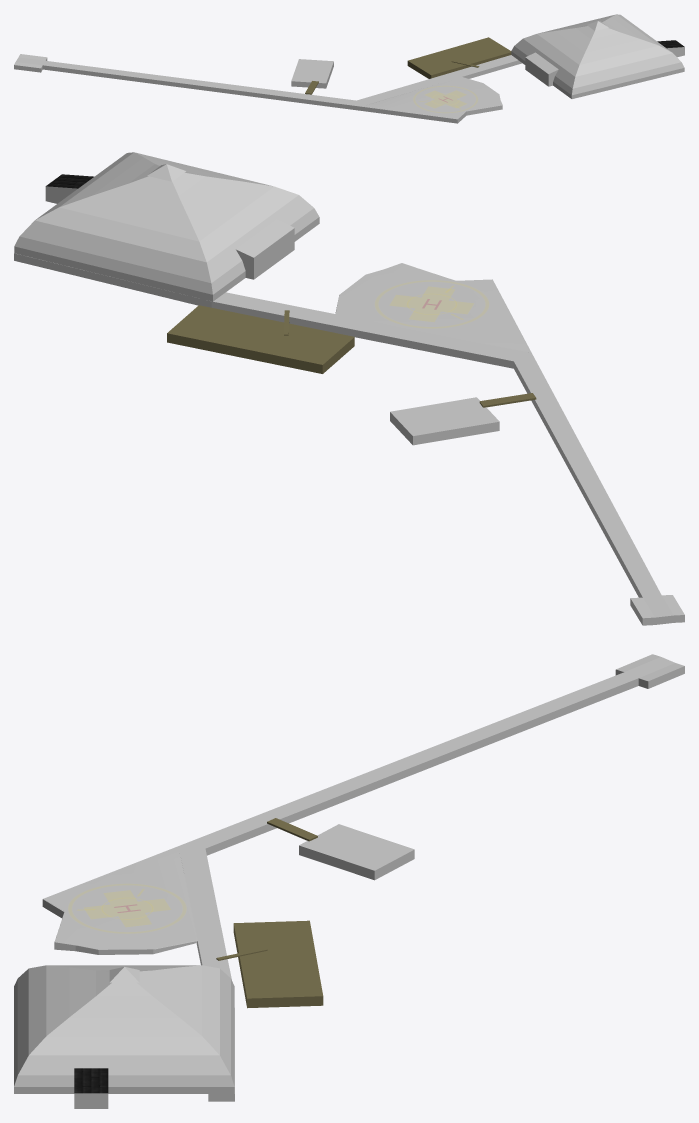
Rendered from enbi_hangar.gltf.
3 views of the same model, one above another, from view 1: azimuth 30°, elevation 25°; view 2: azimuth 150°, elevation 25°; view 3: azimuth 270°, elevation 25° (orthographic). The views are drawn at different scales.
Parts seen in each view (by area): view 1: Cube, Cube.001, Cube.010, Cube.009, Cube.006, Cube.003, Cube.004, Plane, Cube.005; view 2: Cube, Cube.001, Cube.010, Cube.009, Cube.006, Cube.004, Plane, Cube.005; view 3: Cube, Cube.001, Cube.010, Cube.009, Cube.006, Plane, Cube.005, Cube.003.
Boxes of the visible parts, box(x1,y1,x2,y2) form: Cube: box(511, 14, 684, 98); Cube.001: box(14, 54, 522, 110); Cube.010: box(362, 77, 502, 118); Cube.009: box(407, 37, 511, 78); Cube.006: box(291, 59, 333, 88); Cube.003: box(361, 105, 502, 123); Cube.004: box(525, 52, 558, 86); Plane: box(426, 91, 465, 107); Cube.005: box(657, 40, 684, 57); Cube: box(14, 152, 319, 301); Cube.001: box(14, 253, 684, 625); Cube.010: box(335, 263, 529, 352); Cube.009: box(167, 305, 354, 373); Cube.006: box(390, 397, 499, 445); Cube.004: box(236, 219, 294, 279); Plane: box(390, 287, 472, 321); Cube.005: box(45, 174, 93, 203); Cube: box(14, 965, 234, 1093); Cube.001: box(178, 654, 684, 1101); Cube.010: box(44, 847, 197, 949); Cube.009: box(233, 920, 323, 1008); Cube.006: box(299, 824, 414, 880); Plane: box(84, 891, 170, 926); Cube.005: box(74, 1068, 108, 1108); Cube.003: box(42, 846, 195, 954).
Size of the model in its own units: 127 by 11.39 by 79.05.
